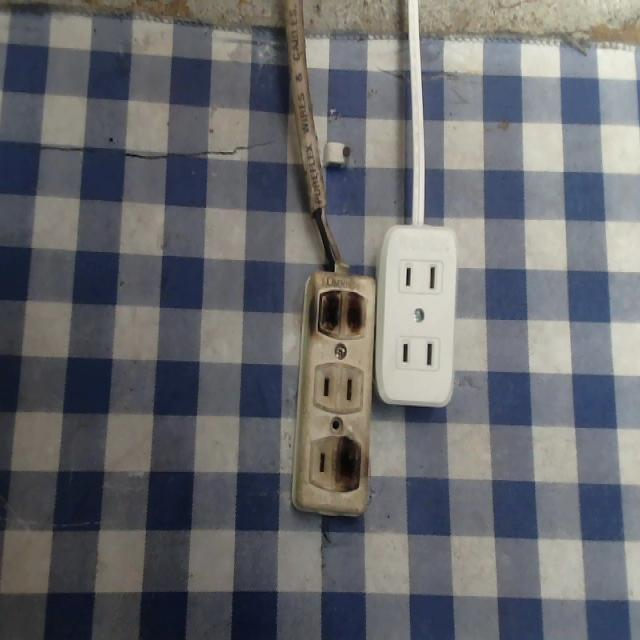-: (316, 284, 366, 340), (333, 433, 366, 491)
